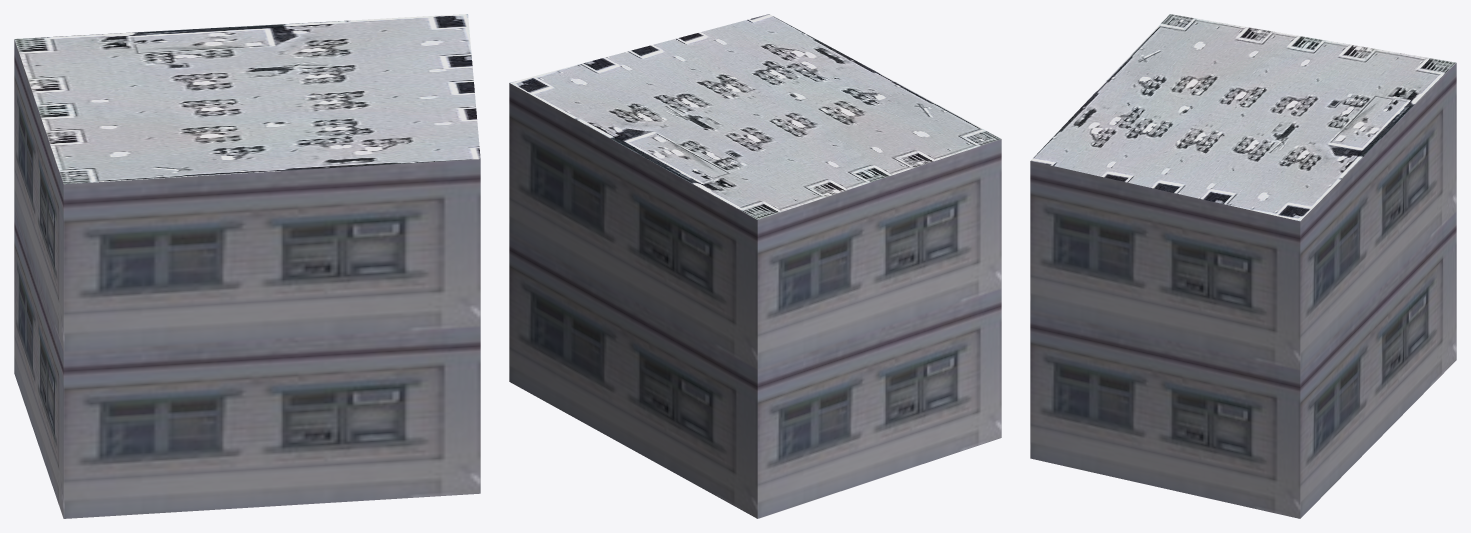
Rendered from ResTex__4189.fbx.
3 renders of one model, left to right at view 1: azimuth 30°, elevation 25°; view 2: azimuth 150°, elevation 25°; view 3: azimuth 270°, elevation 25°, orthographic. The views are drawn at different scales.
Parts seen in each view (by area): view 1: CityEngineMaterial_1_m, CityEngineMaterial_m; view 2: CityEngineMaterial_1_m, CityEngineMaterial_m; view 3: CityEngineMaterial_1_m, CityEngineMaterial_m.
Boxes of the visible parts, x1=… form: CityEngineMaterial_1_m: x1=14, y1=39, x2=480, y2=518; CityEngineMaterial_m: x1=14, y1=14, x2=480, y2=184; CityEngineMaterial_1_m: x1=509, y1=83, x2=1001, y2=518; CityEngineMaterial_m: x1=509, y1=14, x2=1000, y2=219; CityEngineMaterial_1_m: x1=1030, y1=63, x2=1456, y2=518; CityEngineMaterial_m: x1=1031, y1=14, x2=1455, y2=221.
Size of the model in its own units: 8.96 by 6 by 7.79.
2 materials, 2 textured.
